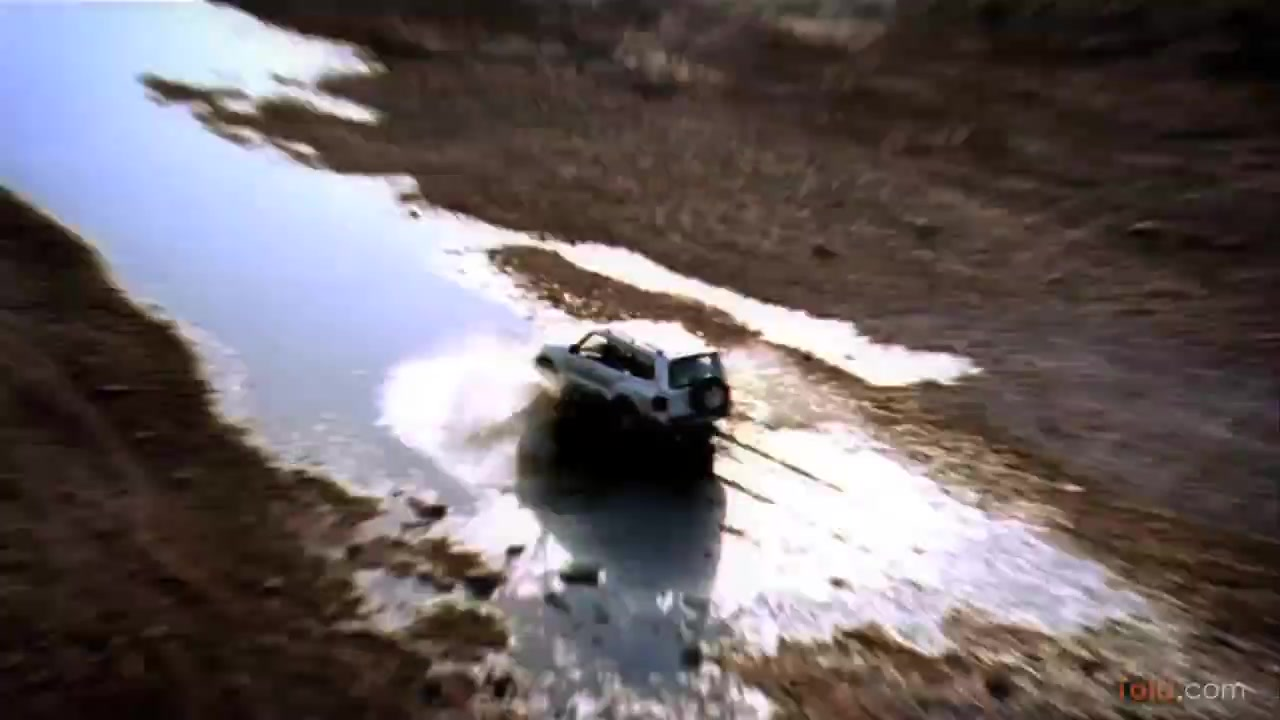car: (532, 313, 736, 432)
